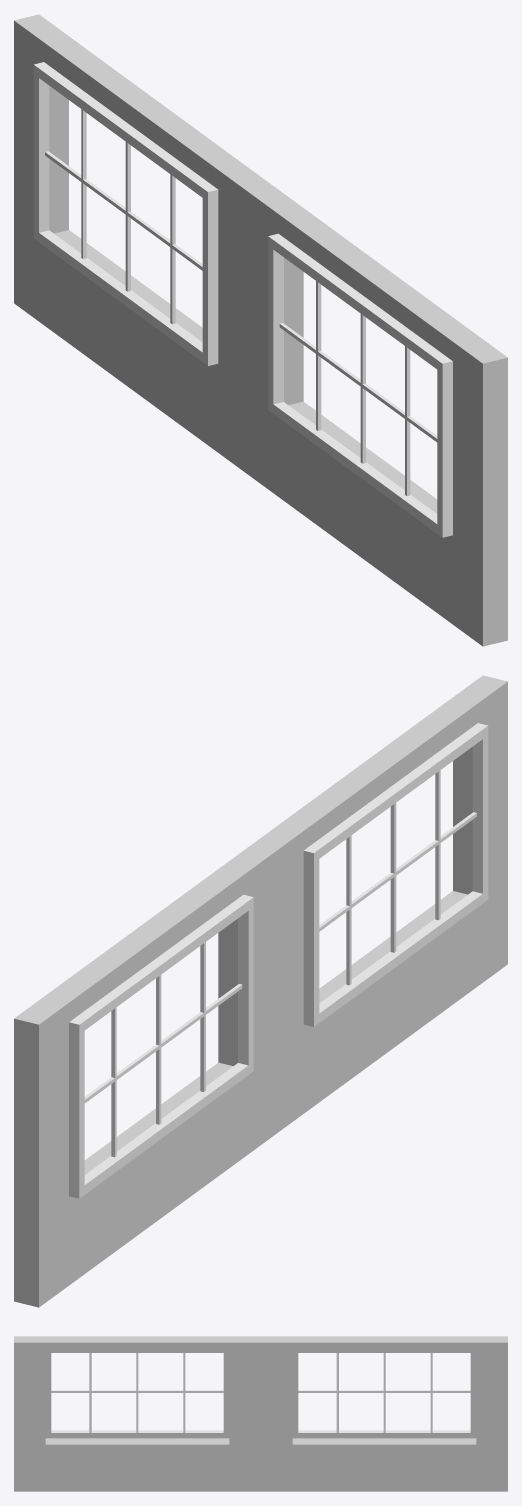
File: WindowWall.glb
3 renders of one model, top to bottom at view 1: azimuth 30°, elevation 25°; view 2: azimuth 150°, elevation 25°; view 3: azimuth 270°, elevation 25°, orthographic. The views are drawn at different scales.
Parts seen in each view (by area): view 1: CHEMISTRYlabdemoscene_3.003; view 2: CHEMISTRYlabdemoscene_3.003; view 3: CHEMISTRYlabdemoscene_3.003.
Part boxes in pixels (<box>): CHEMISTRYlabdemoscene_3.003: <box>14,14,507,646</box>; CHEMISTRYlabdemoscene_3.003: <box>14,675,507,1307</box>; CHEMISTRYlabdemoscene_3.003: <box>14,1336,507,1491</box>.
Size of the model in its own units: 0.424 by 3.24 by 9.73.
1 material, 1 textured.
